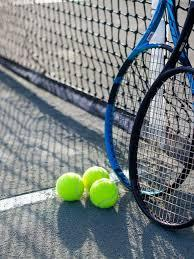tennis ball: (90, 179, 119, 209), (56, 173, 84, 202), (83, 167, 110, 192)
tennis racket: (128, 2, 194, 227), (105, 0, 180, 185), (156, 172, 179, 192), (179, 50, 190, 66), (186, 74, 193, 92)
